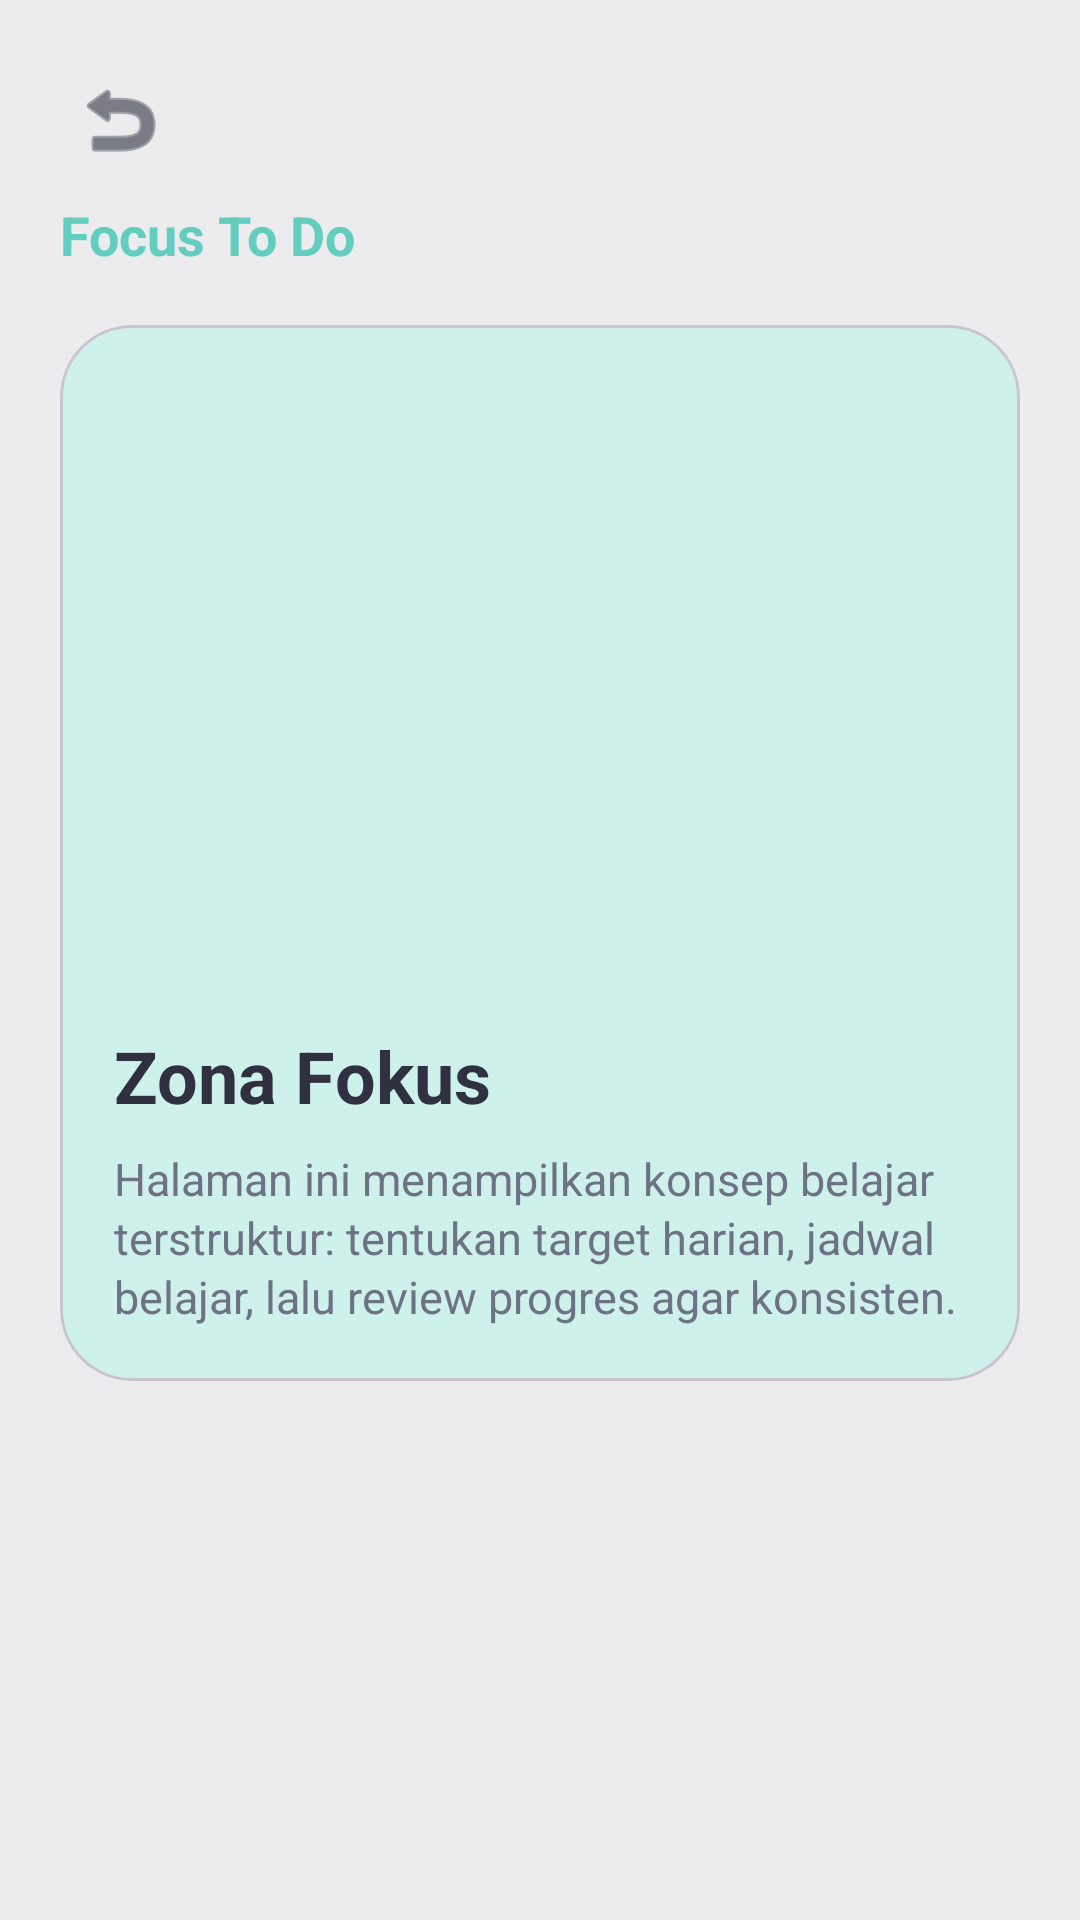

Screen size 1080 × 1920. Icon name, then its box in pixels as (x1, y1, x2, y2):
Kembali: (87, 89, 156, 152)
